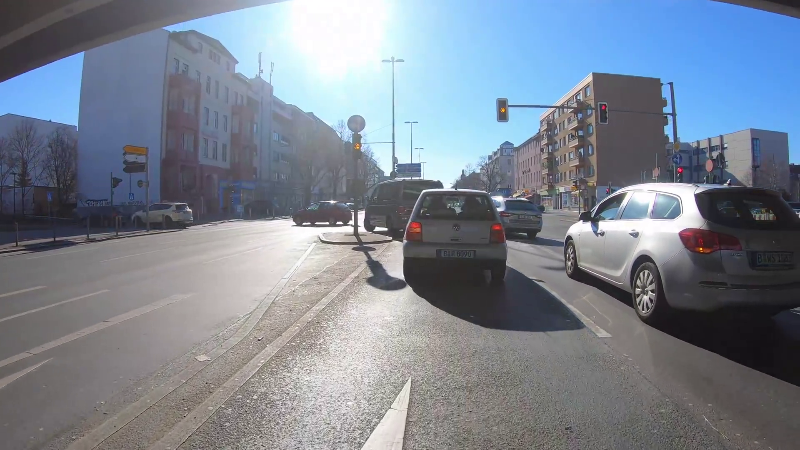Plate: (749, 251, 797, 266), (437, 249, 474, 260)
